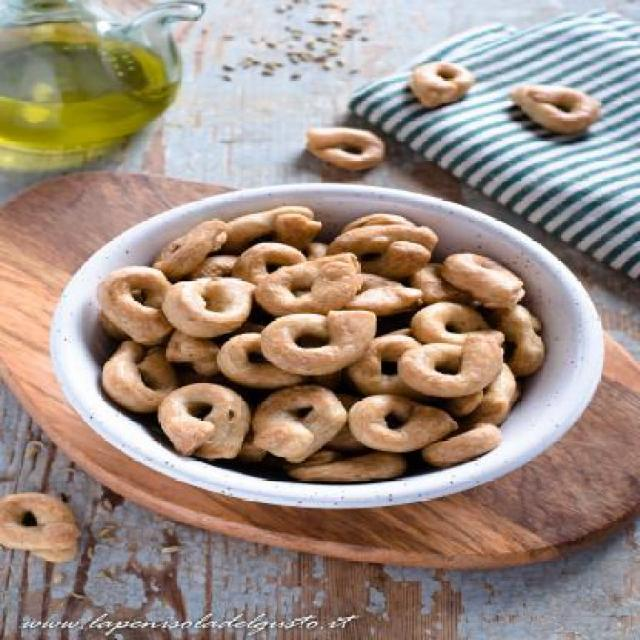Taralli: (88, 208, 550, 500), (1, 490, 81, 566)
